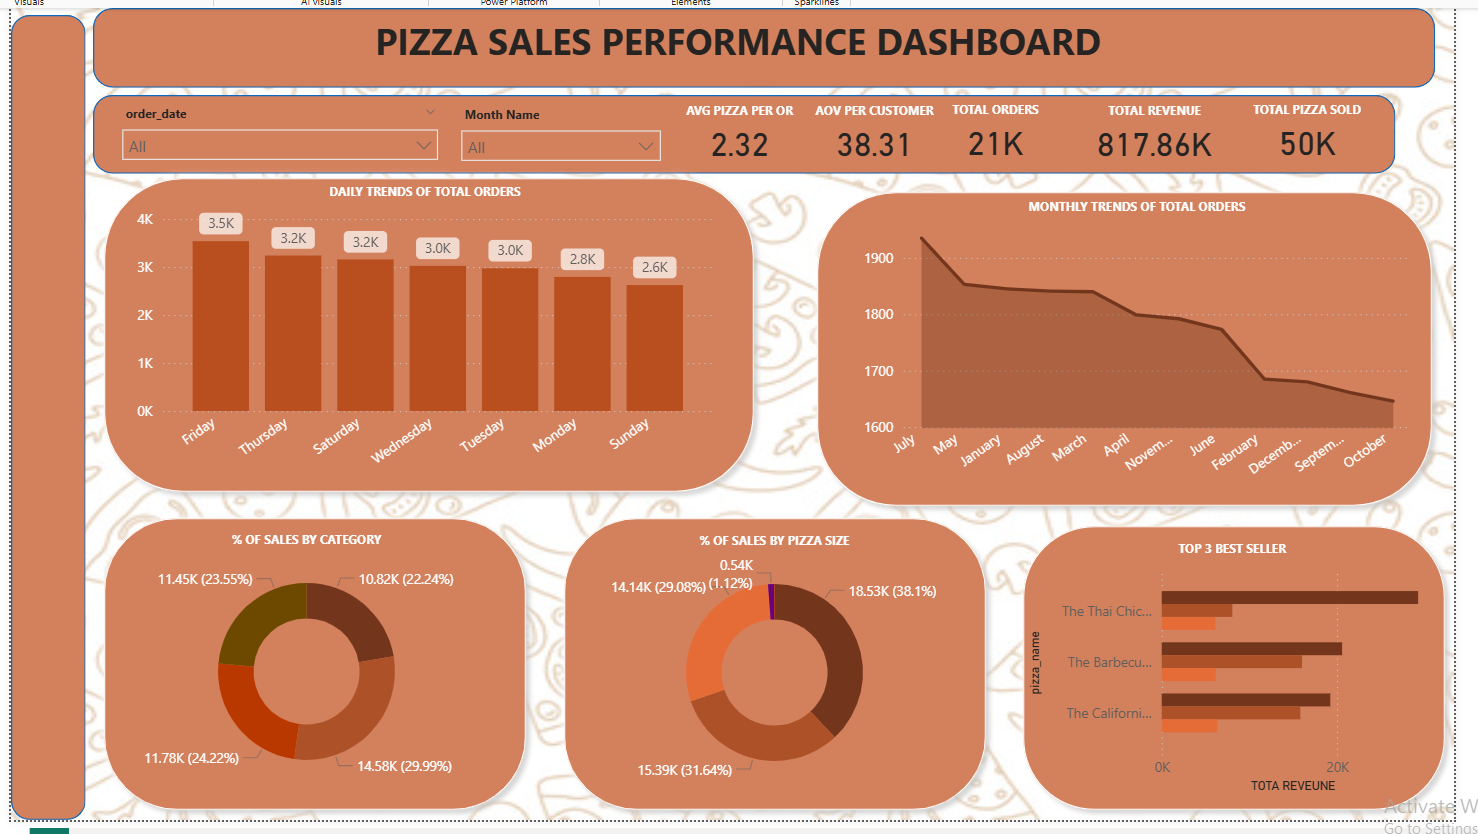

What the dashboard file says about the page in this screenshot:
{"tool":"powerbi","page":{"name":"Page 1","canvas":[1280,720],"ordinal":0},"visuals":[{"type":"shape","box":[72.3,0,1190,70.6],"z":0},{"type":"shape","box":[0,6.2,66.2,713.7],"z":1000},{"type":"textbox","box":[254.1,1.8,771.9,62.6],"z":2000},{"type":"shape","box":[72.3,76.7,1154.7,69.7],"z":3000},{"type":"card","title":"TOTAL REVENUE","fields":{"Values":["pizza_sales.TOTA REVEUNE"]},"box":[954.5,82,120,59.1],"z":4000},{"type":"card","title":"AOV PER CUSTOMER","fields":{"Values":["pizza_sales.TOTAL AVERAGE ORDER VALUE"]},"box":[705.7,82,120,59.1],"z":5000},{"type":"card","title":"TOTAL ORDERS","fields":{"Values":["pizza_sales.TOTAL ORDERS"]},"box":[813.3,81.2,120,59.1],"z":6000},{"type":"card","title":"TOTAL PIZZA SOLD","fields":{"Values":["pizza_sales.TOTAL PIZZA SOLD"]},"box":[1088.6,81.2,120.9,59.1],"z":7000},{"type":"card","title":"AVG PIZZA PER OR","fields":{"Values":["pizza_sales.AVG PIZZA PER ORDER"]},"box":[585.7,82,120,59.1],"z":8000},{"type":"shape","box":[73.6,141.9,594.1,296.2],"z":9000},{"type":"shape","box":[705.8,154.3,563.1,296.2],"z":10000},{"type":"shape","box":[73.6,443.3,391.9,276.7],"z":11000},{"type":"shape","box":[481.5,443.3,391.9,276.7],"z":12000},{"type":"shape","box":[888.5,450.4,391.9,269.6],"z":13000},{"type":"lineStackedColumnComboChart","title":"DAILY TRENDS OF TOTAL ORDERS","fields":{"Category":["pizza_sales.Day Name"],"Y":["pizza_sales.TOTAL ORDERS"]},"box":[106.4,154.3,521.4,273.1],"z":14000},{"type":"lineChart","title":"MONTHLY TRENDS OF TOTAL ORDERS","fields":{"Category":["pizza_sales.Month Name"],"Y":["pizza_sales.TOTAL ORDERS"]},"box":[751,167.6,494.8,258.9],"z":15000},{"type":"donutChart","title":"% OF SALES BY CATEGORY","fields":{"Series":["pizza_sales.pizza_category"],"Y":["CountNonNull(pizza_sales.pizza_category)"]},"box":[95.8,462.9,332.5,235.9],"z":16000},{"type":"donutChart","title":"% OF SALES BY PIZZA SIZE","fields":{"Series":["pizza_sales.pizza_size"],"Y":["CountNonNull(pizza_sales.pizza_category)"]},"box":[510.7,463.7,332.5,235.9],"z":17000},{"type":"clusteredBarChart","title":"TOP 3 BEST SELLER","fields":{"Category":["pizza_sales.pizza_name"],"Series":["pizza_sales.pizza_size"],"Y":["pizza_sales.TOTA REVEUNE"]},"box":[896.9,470.9,371.1,229.5],"z":18000},{"type":"slicer","fields":{"Values":["pizza_sales.order_date"]},"box":[88.8,80.8,300.3,58.9],"z":19000},{"type":"slicer","fields":{"Values":["pizza_sales.Month Name"]},"box":[389.1,81.8,196.5,62.9],"z":19001}]}

Visuals, with their boxes in screenshot pixels (x1, y1, x2, y2):
shape: <bbox>86, 4, 1441, 84</bbox>
shape: <bbox>4, 11, 79, 824</bbox>
textbox: <bbox>293, 6, 1172, 77</bbox>
shape: <bbox>86, 91, 1401, 171</bbox>
"TOTAL REVENUE" card: <bbox>1091, 97, 1227, 165</bbox>
"AOV PER CUSTOMER" card: <bbox>807, 97, 944, 165</bbox>
"TOTAL ORDERS" card: <bbox>930, 96, 1067, 164</bbox>
"TOTAL PIZZA SOLD" card: <bbox>1243, 96, 1381, 164</bbox>
"AVG PIZZA PER OR" card: <bbox>671, 97, 807, 165</bbox>
shape: <bbox>88, 165, 764, 503</bbox>
shape: <bbox>808, 180, 1449, 517</bbox>
shape: <bbox>88, 509, 534, 824</bbox>
shape: <bbox>552, 509, 998, 824</bbox>
shape: <bbox>1016, 517, 1462, 824</bbox>
"DAILY TRENDS OF TOTAL ORDERS" lineStackedColumnComboChart: <bbox>125, 180, 719, 491</bbox>
"MONTHLY TRENDS OF TOTAL ORDERS" lineChart: <bbox>859, 195, 1422, 490</bbox>
"% OF SALES BY CATEGORY" donutChart: <bbox>113, 531, 492, 800</bbox>
"% OF SALES BY PIZZA SIZE" donutChart: <bbox>585, 532, 964, 800</bbox>
"TOP 3 BEST SELLER" clusteredBarChart: <bbox>1025, 540, 1448, 801</bbox>
slicer - pizza_sales.order_date: <bbox>105, 96, 447, 163</bbox>
slicer - pizza_sales.Month Name: <bbox>447, 97, 671, 169</bbox>
